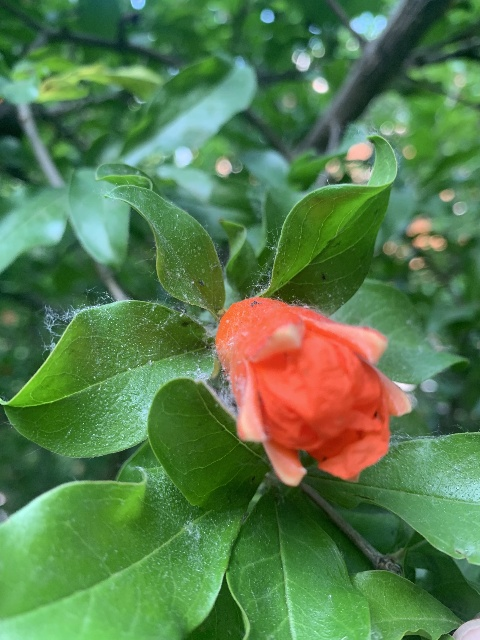flower: (216, 297, 412, 485)
